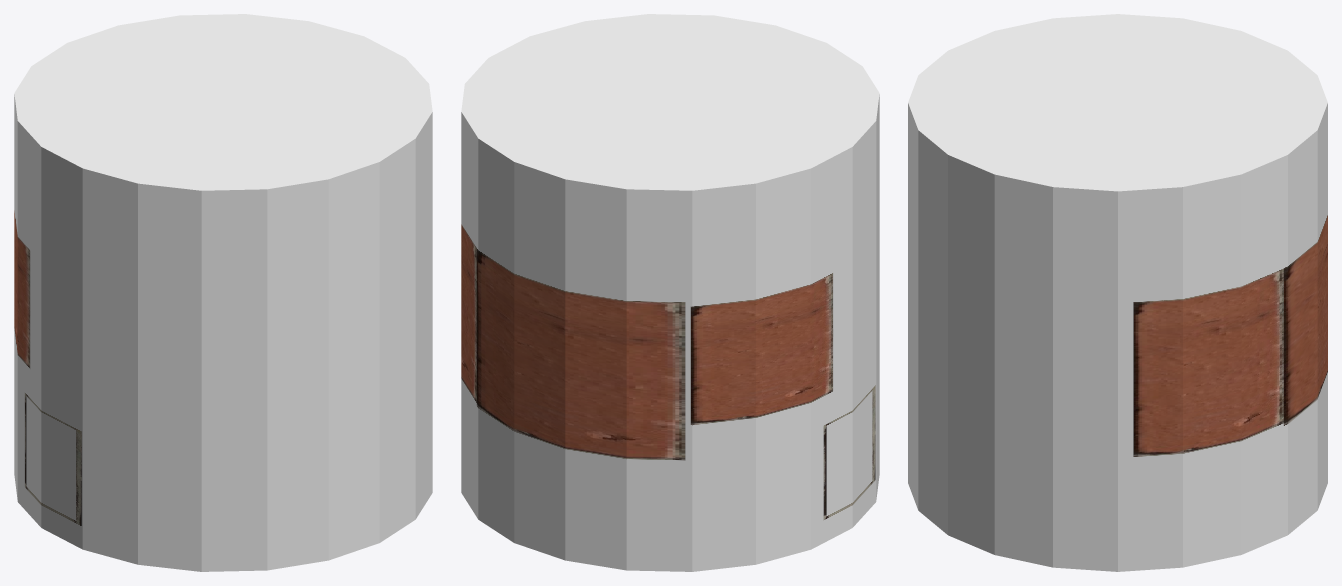
Rendered from Player.obj.
3 renders of one model, left to right at view 1: azimuth 30°, elevation 25°; view 2: azimuth 150°, elevation 25°; view 3: azimuth 270°, elevation 25°, orthographic.
Bounding box in the file's own units: 200 × 200 × 200.
